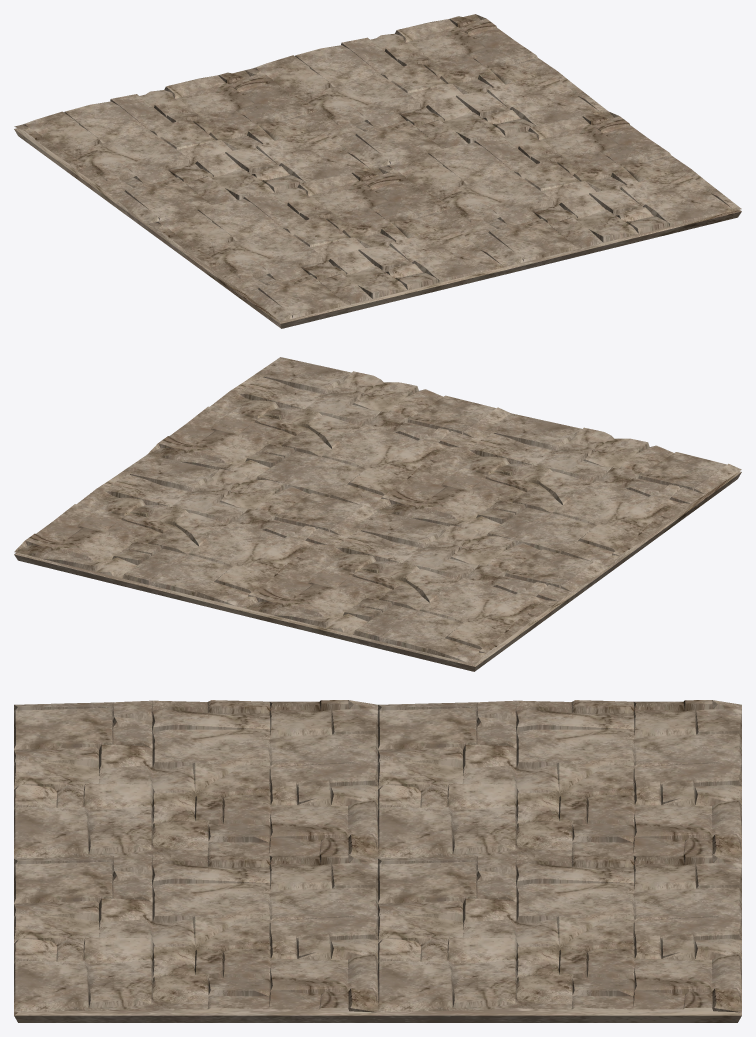
3 views of the same model, one above another, from view 1: azimuth 30°, elevation 25°; view 2: azimuth 150°, elevation 25°; view 3: azimuth 270°, elevation 25° (orthographic). The views are drawn at different scales.
Parts seen in each view (by area): view 1: SM_FloorTiles02_v1_LOD0; view 2: SM_FloorTiles02_v1_LOD0; view 3: SM_FloorTiles02_v1_LOD0.
Boxes of the visible parts, x1=… form: SM_FloorTiles02_v1_LOD0: x1=14, y1=14, x2=741, y2=328; SM_FloorTiles02_v1_LOD0: x1=14, y1=357, x2=741, y2=671; SM_FloorTiles02_v1_LOD0: x1=14, y1=700, x2=741, y2=1022.
Size of the model in its own units: 6 by 0.2161 by 6.
Materials: 1 (1 with a texture image).
